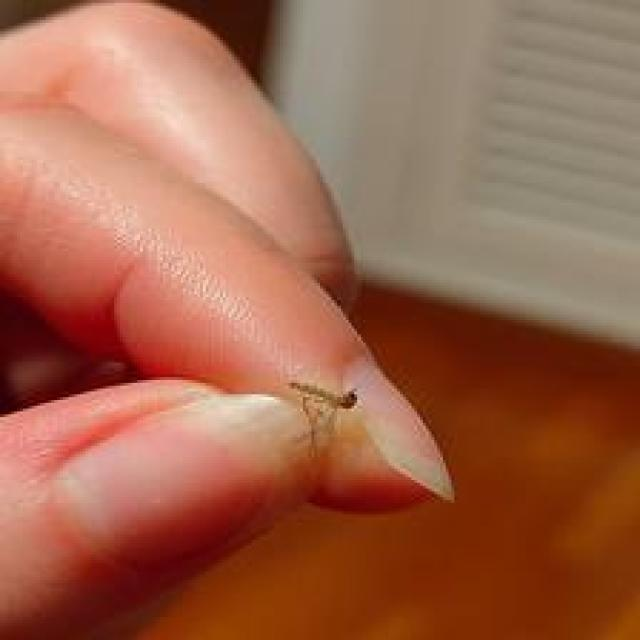Culex: (286, 378, 360, 462)
